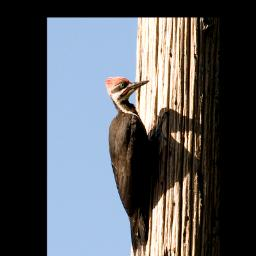Woodpecker: (104, 76, 168, 256)
